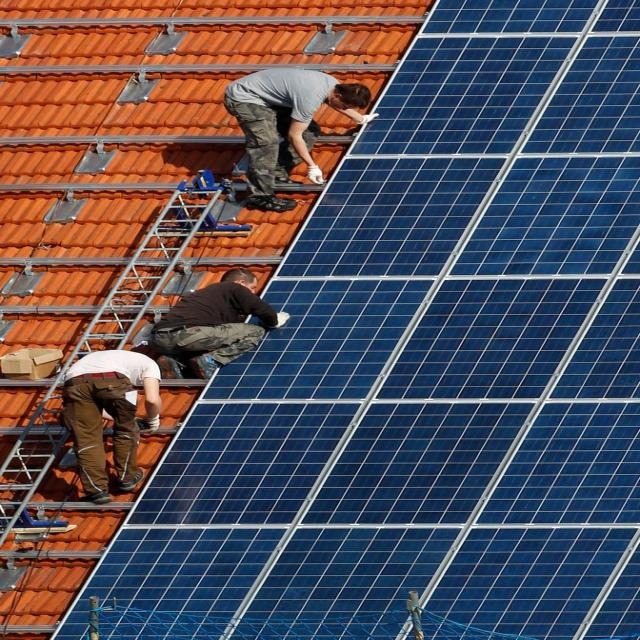Clean: (54, 0, 640, 638)
